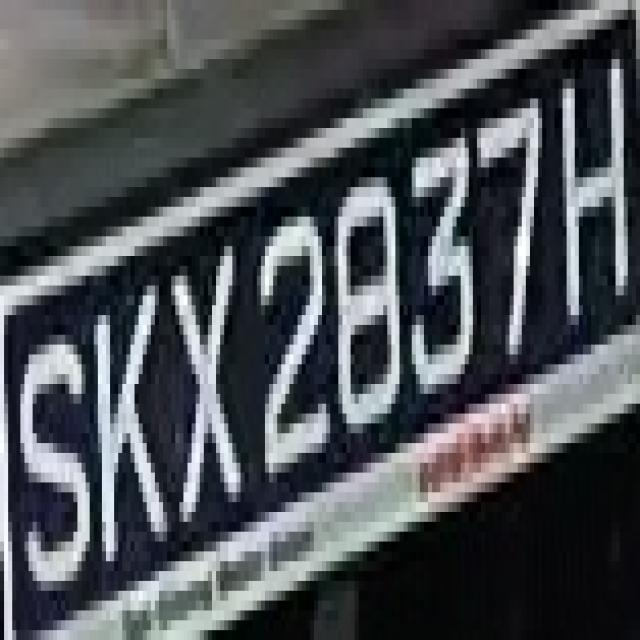2: (253, 168, 334, 492)
3: (408, 108, 489, 404)
7: (473, 59, 550, 374)
8: (326, 158, 412, 443)
H: (550, 49, 632, 345)
K: (90, 256, 163, 581)
S: (12, 286, 94, 610)
X: (159, 236, 245, 522)
